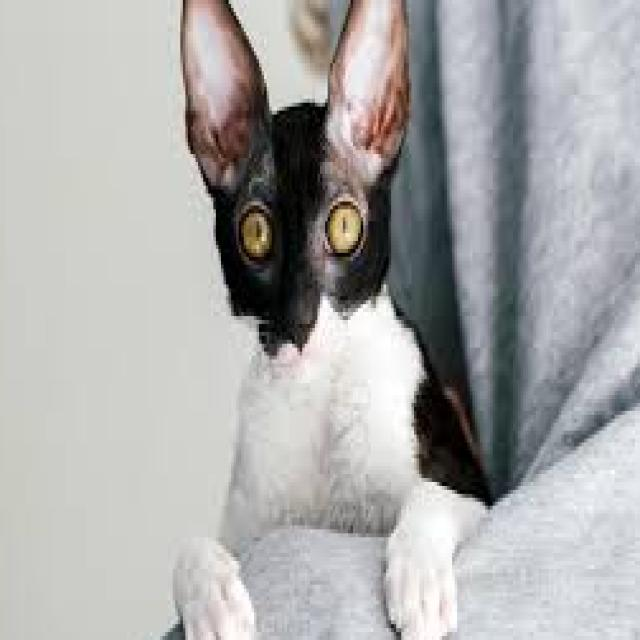Cornish Rex: (168, 0, 498, 640)
